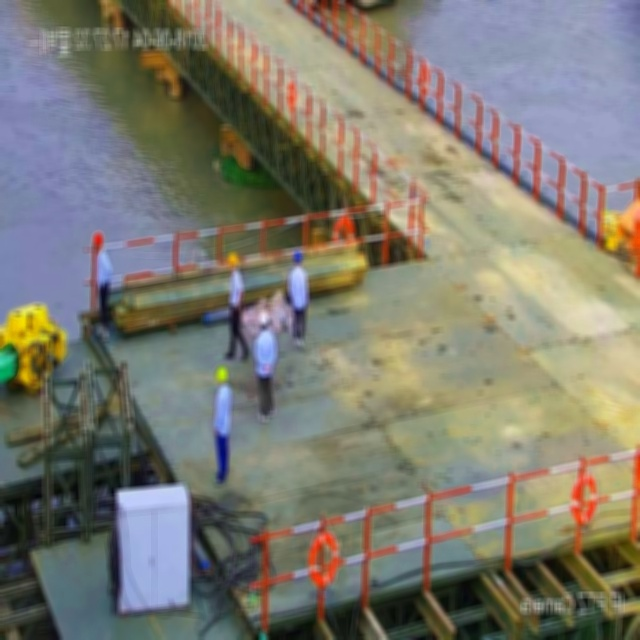Con_Casco: (217, 366, 227, 386), (226, 253, 237, 271), (259, 311, 268, 329)
